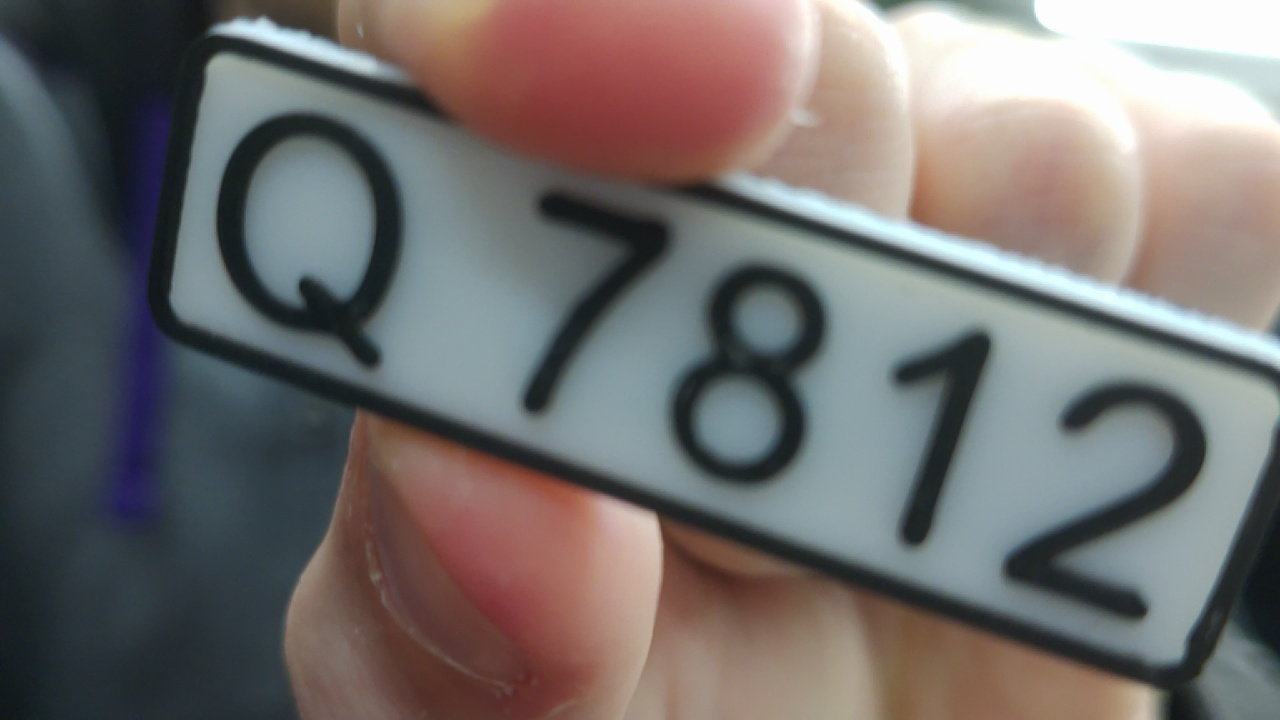license_plate: (136, 12, 1276, 698)
